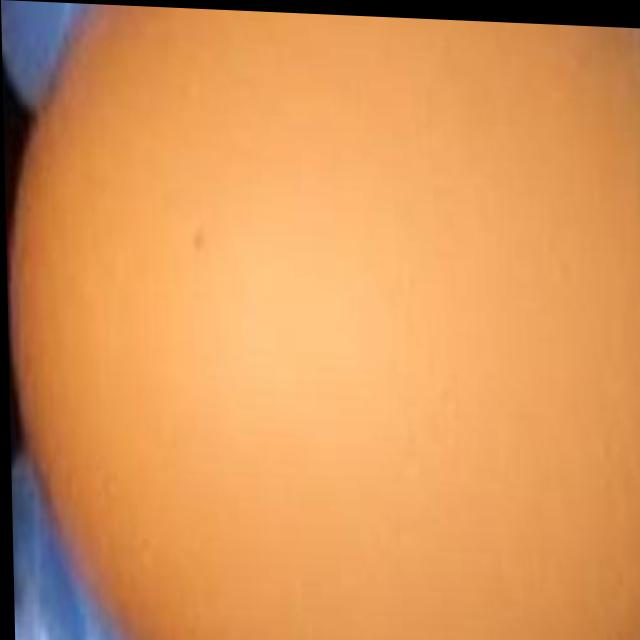fresh: (12, 0, 640, 640)
